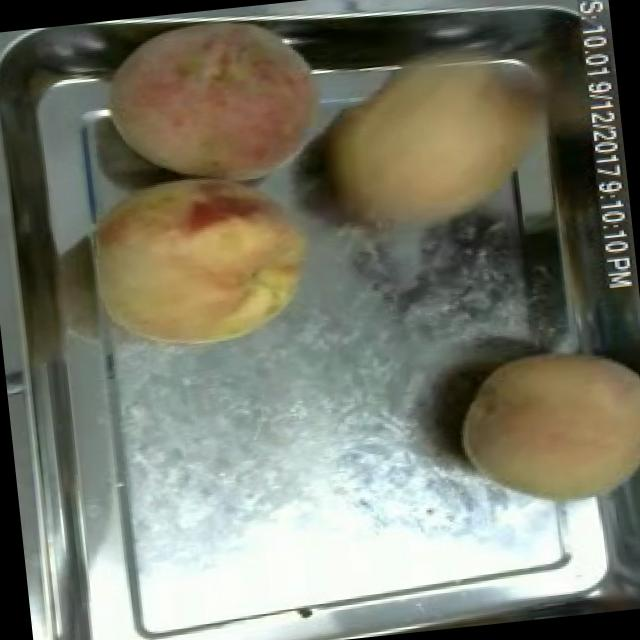Fruit: (300, 27, 568, 260), (83, 152, 330, 365), (85, 6, 341, 210), (437, 324, 640, 529)
